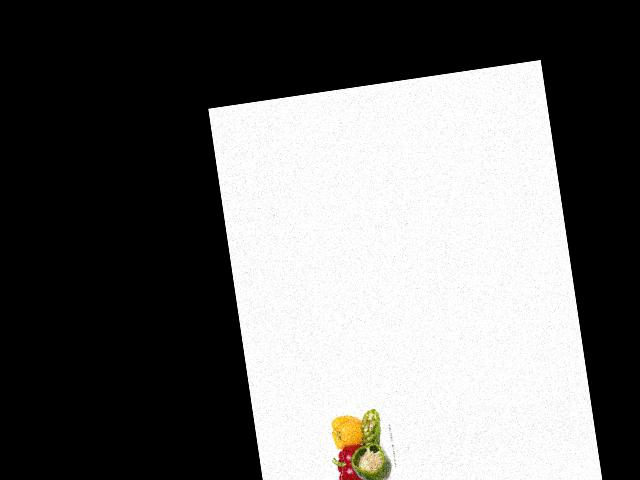bell_pepper: (348, 441, 390, 480)
